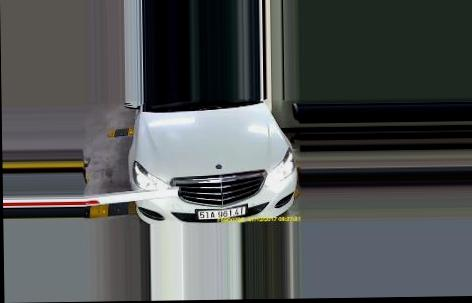License_Plate: (195, 206, 250, 220)
